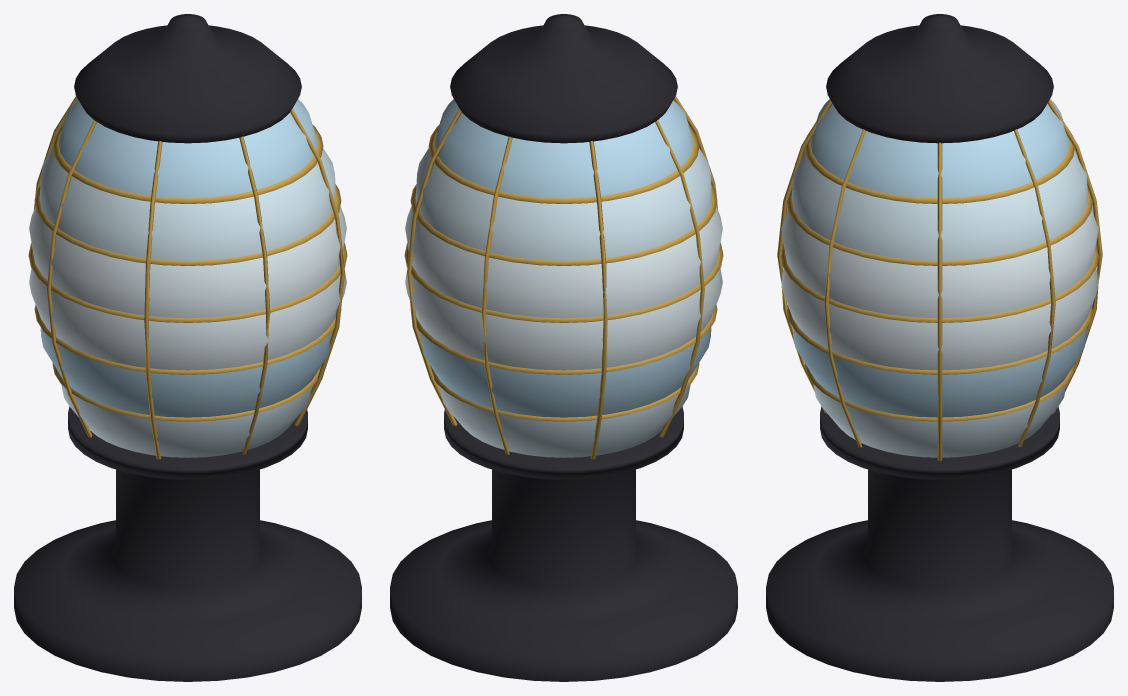
Rendered from furn_lh_lens.glb.
The picture shows the model from 3 angles, left to right: view 1: azimuth 30°, elevation 25°; view 2: azimuth 150°, elevation 25°; view 3: azimuth 270°, elevation 25°; orthographic projection.
Visible parts, largest first — view 1: furn_lh_lens_main, furn_lh_lens_gloss, furn_lh_lens_clear; view 2: furn_lh_lens_main, furn_lh_lens_gloss, furn_lh_lens_clear; view 3: furn_lh_lens_main, furn_lh_lens_gloss, furn_lh_lens_clear.
Part boxes in pixels (<box>): furn_lh_lens_main: <box>14,14,361,681</box>; furn_lh_lens_gloss: <box>39,99,336,457</box>; furn_lh_lens_clear: <box>29,206,346,370</box>; furn_lh_lens_main: <box>390,14,737,681</box>; furn_lh_lens_gloss: <box>415,99,712,457</box>; furn_lh_lens_clear: <box>405,206,722,370</box>; furn_lh_lens_main: <box>766,14,1113,681</box>; furn_lh_lens_gloss: <box>791,99,1088,457</box>; furn_lh_lens_clear: <box>781,206,1098,370</box>.
Size of the model in its own units: 1.16 by 2.18 by 1.16.
